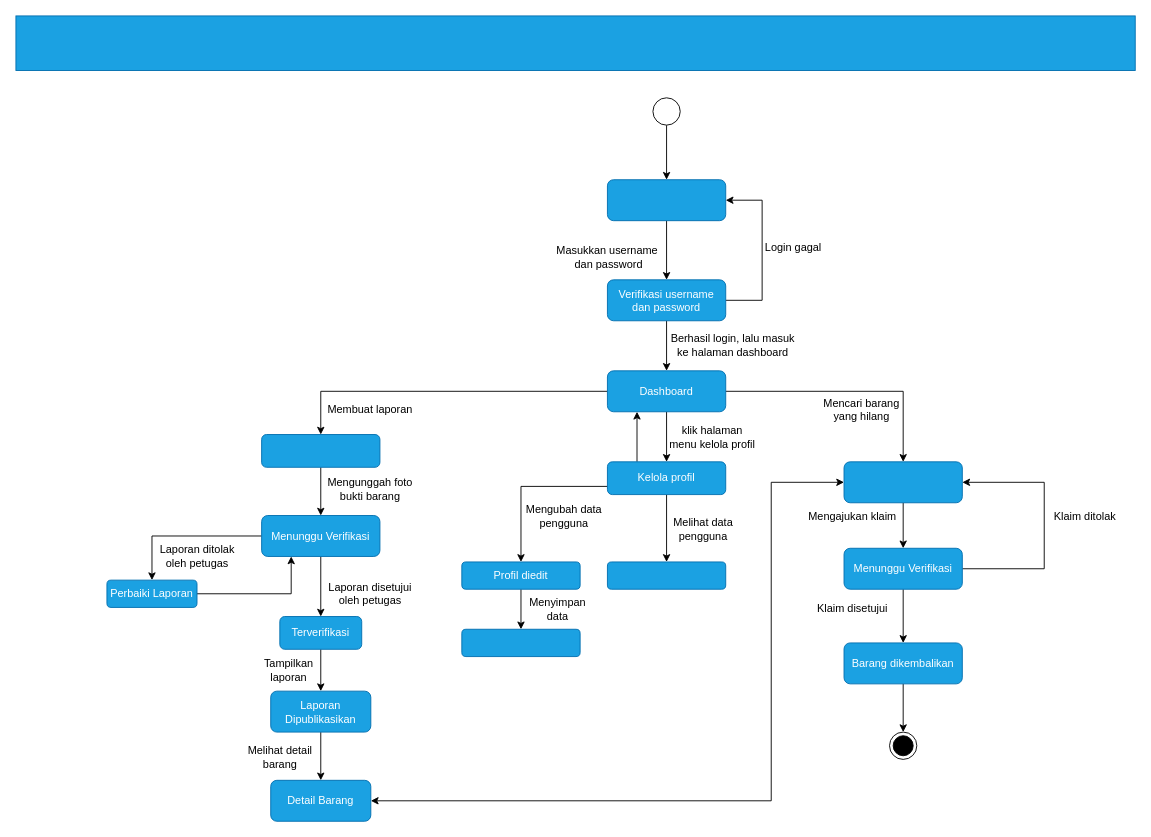
Image size: 1151x837. Some labels were removed from this diagram. The shapes that lost their labels are listed below. From the top down, each one's centre as x and y in pixels, then its label:
At pixel 575 43: "STATE MACHINE DIAGRAM - MAHASISWA".
At pixel 666 200: "Login".
At pixel 320 450: "Laporan dibuat".
At pixel 902 482: "Cari Barang".
At pixel 666 575: "Data pengguna".
At pixel 520 642: "Profil diperbarui".
